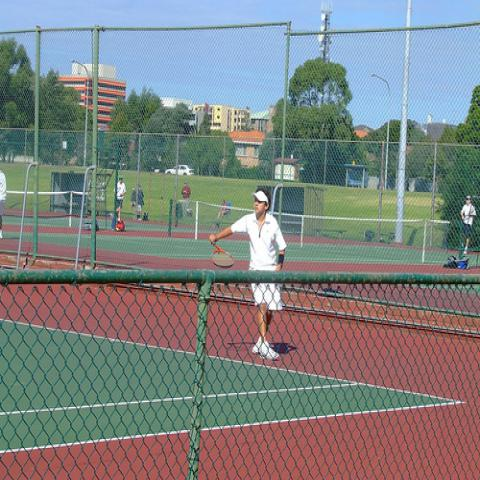car: (164, 164, 197, 176)
